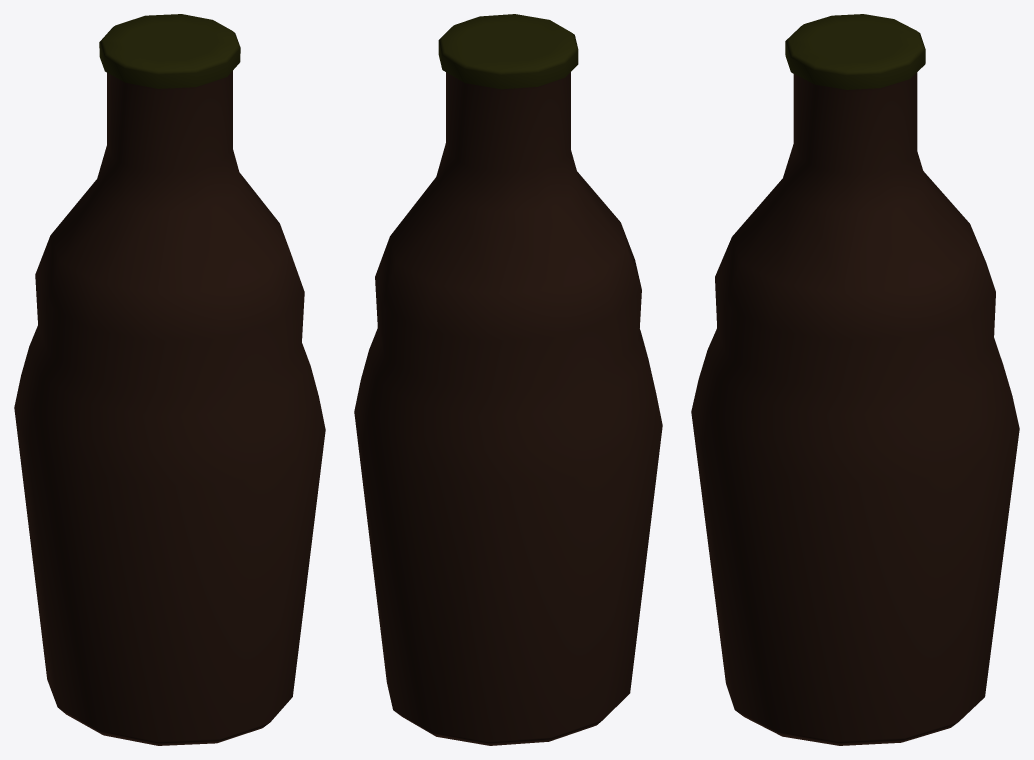
The model's file is ItemBotellaBIEN.fbx.
3 views of the same model, side by side, from view 1: azimuth 30°, elevation 25°; view 2: azimuth 150°, elevation 25°; view 3: azimuth 270°, elevation 25° (orthographic).
Parts seen in each view (by area): view 1: Mesh; view 2: Mesh; view 3: Mesh.
Boxes of the visible parts, x1=… form: Mesh: x1=14, y1=14, x2=325, y2=745; Mesh: x1=354, y1=14, x2=662, y2=745; Mesh: x1=691, y1=14, x2=1019, y2=745.
Bounding box in the file's own units: 25.73 × 61.13 × 27.71.
